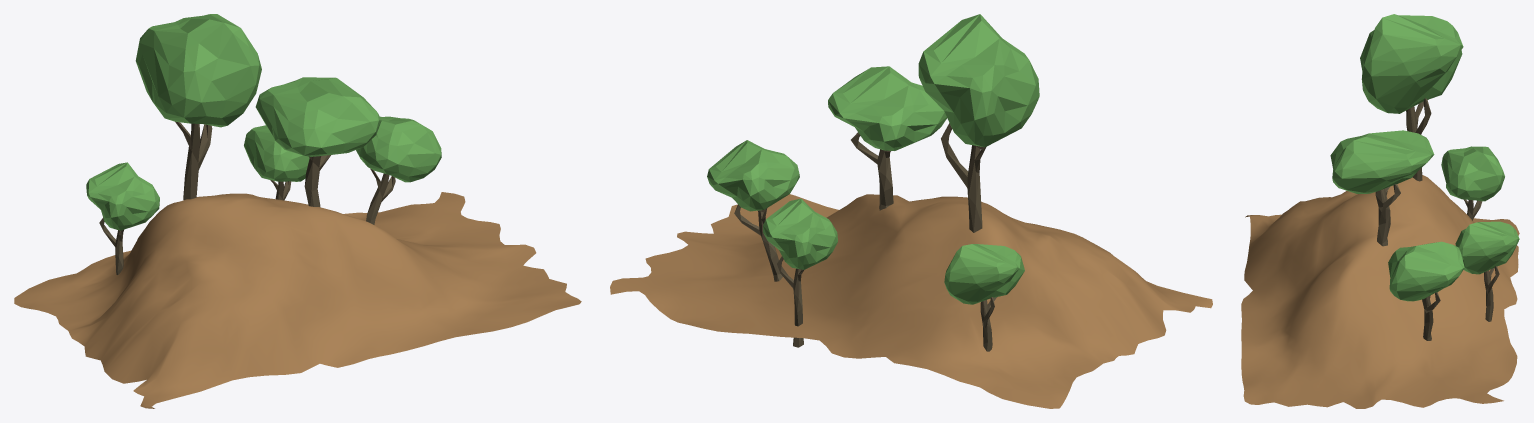
The model's file is background1.fbx.
The picture shows the model from 3 angles, left to right: view 1: azimuth 30°, elevation 25°; view 2: azimuth 150°, elevation 25°; view 3: azimuth 270°, elevation 25°; orthographic projection. The views are drawn at different scales.
Parts seen in each view (by area): view 1: Group44277; view 2: Group44277; view 3: Group44277.
Boxes of the visible parts, left/top/right/bottom form: Group44277: left=14, top=14, right=581, bottom=408; Group44277: left=610, top=14, right=1212, bottom=408; Group44277: left=1241, top=14, right=1519, bottom=408.
Size of the model in its own units: 692 by 444 by 412.
